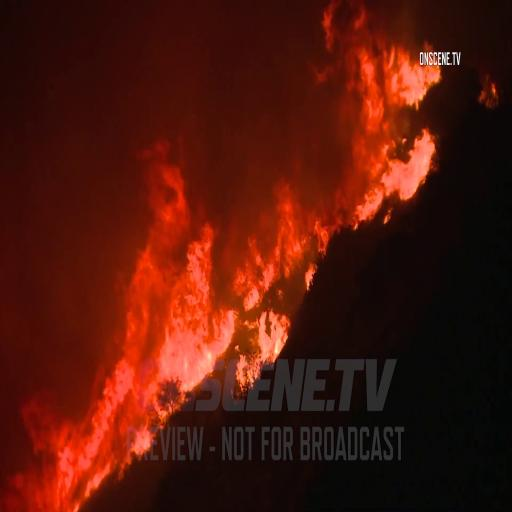fire: (113, 170, 213, 410), (12, 357, 86, 504), (240, 184, 312, 289)
